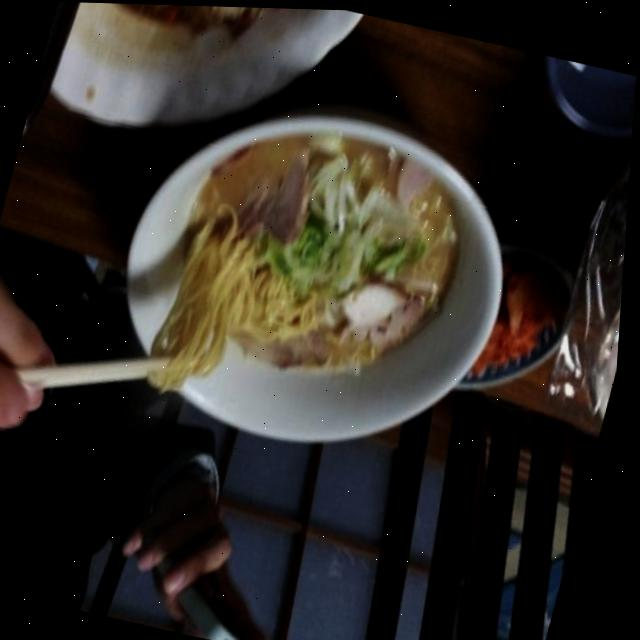面条主食: (76, 56, 548, 485)
